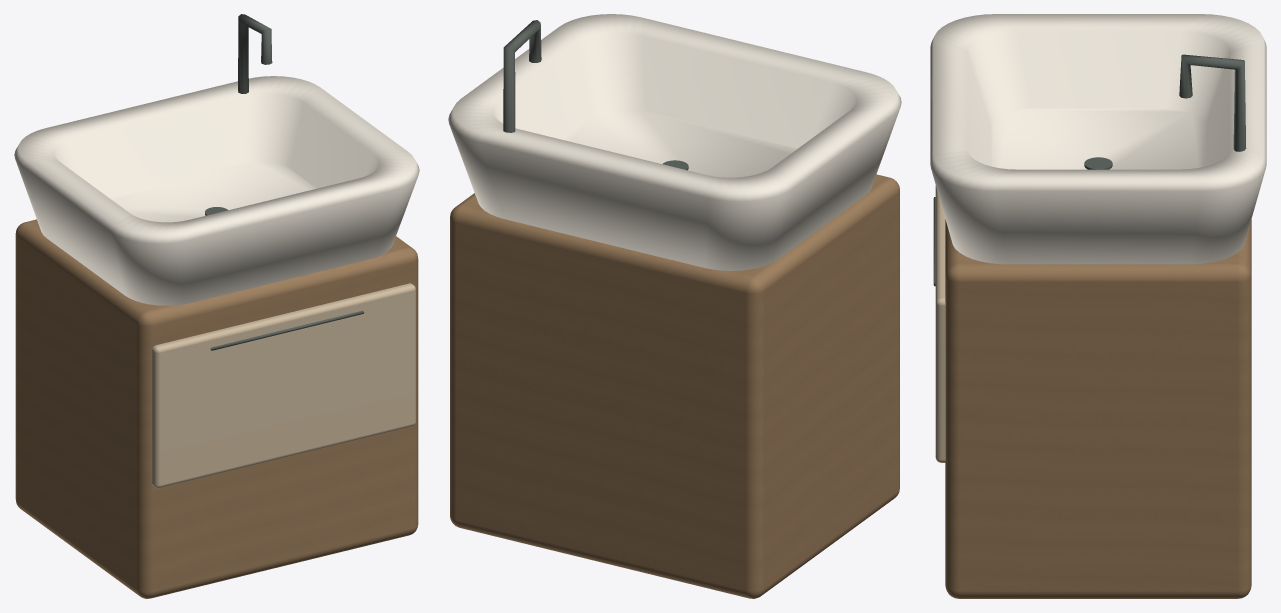
3 views of the same model, side by side, from view 1: azimuth 30°, elevation 25°; view 2: azimuth 150°, elevation 25°; view 3: azimuth 270°, elevation 25° (orthographic). The views are drawn at different scales.
Visible parts, largest first — view 1: vanity, sink_bowl, drawer_front, faucet, vanity_handle; view 2: vanity, sink_bowl, faucet; view 3: vanity, sink_bowl, drawer_front, faucet.
Part boxes in pixels (x1,y1,x2,y2): vanity: (15, 219, 418, 598); sink_bowl: (14, 76, 419, 305); drawer_front: (152, 283, 415, 488); faucet: (238, 14, 272, 93); vanity_handle: (210, 310, 364, 350); vanity: (450, 174, 899, 598); sink_bowl: (448, 14, 901, 270); faucet: (503, 20, 541, 132); vanity: (945, 219, 1251, 598); sink_bowl: (930, 14, 1266, 264); drawer_front: (935, 185, 945, 462); faucet: (1179, 54, 1246, 151).
Bounding box in the file's own units: 0.6 × 0.85 × 0.5.
Materials: 4 (1 with a texture image).
